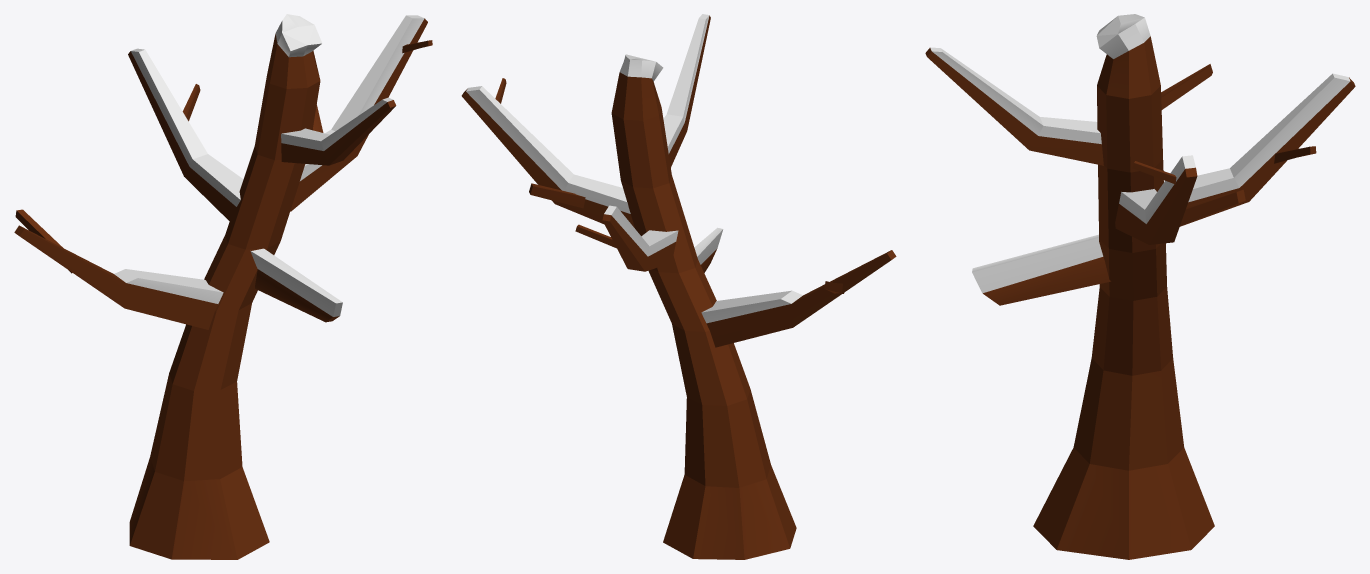
Rendered from Winter_020.fbx.
The picture shows the model from 3 angles, left to right: view 1: azimuth 30°, elevation 25°; view 2: azimuth 150°, elevation 25°; view 3: azimuth 270°, elevation 25°; orthographic projection. The views are drawn at different scales.
Parts seen in each view (by area): view 1: Winter_020; view 2: Winter_020; view 3: Winter_020.
Part boxes in pixels (x1,y1,x2,y2): Winter_020: (14, 14, 432, 559); Winter_020: (461, 14, 896, 559); Winter_020: (925, 14, 1355, 559).
Size of the model in its own units: 5.34 by 5.71 by 3.95.
